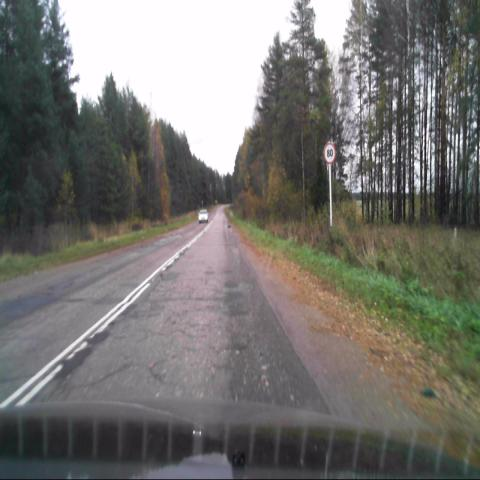3_24: (323, 141, 336, 165)
